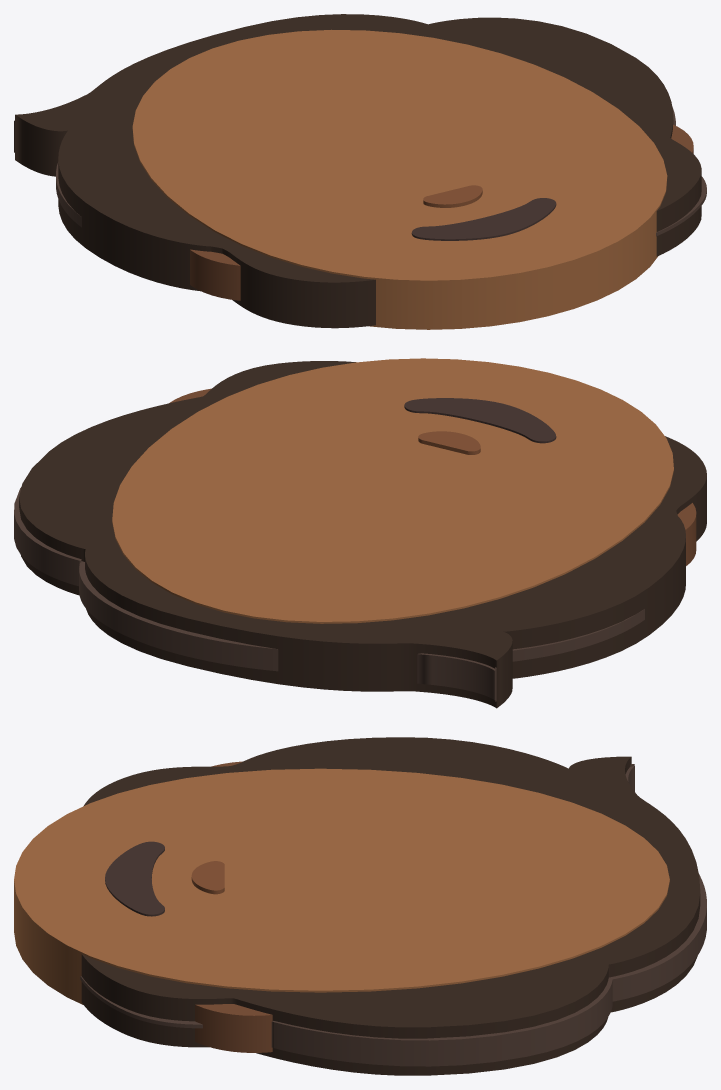
The model's file is emoji_u1f9d2_1f3fe.glb.
3 renders of one model, top to bottom at view 1: azimuth 30°, elevation 25°; view 2: azimuth 150°, elevation 25°; view 3: azimuth 270°, elevation 25°, orthographic. The views are drawn at different scales.
Visible parts, largest first — view 1: emoji_u1f9d2_1f3fe; view 2: emoji_u1f9d2_1f3fe; view 3: emoji_u1f9d2_1f3fe.
Part boxes in pixels (x1,y1,x2,y2): emoji_u1f9d2_1f3fe: (14, 14, 706, 329); emoji_u1f9d2_1f3fe: (14, 358, 706, 708); emoji_u1f9d2_1f3fe: (14, 737, 706, 1075).
Bounding box in the file's own units: 0.0337 × 0.0032 × 0.0338.
